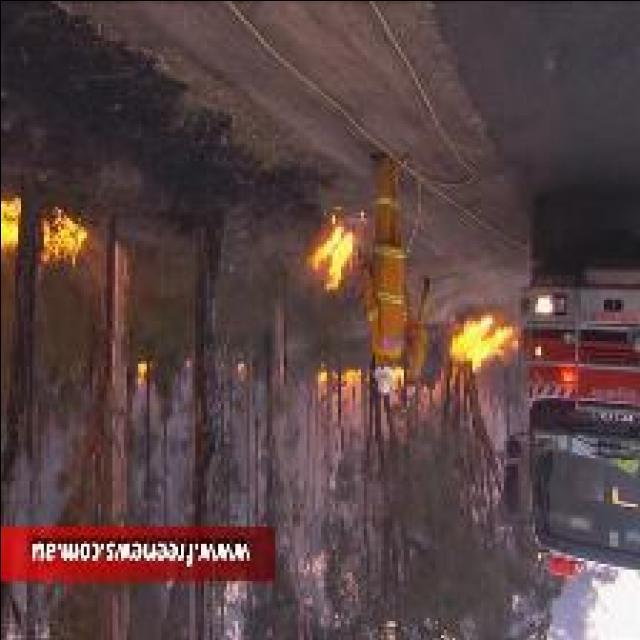Fire: (446, 316, 518, 370), (309, 222, 357, 288), (43, 198, 86, 266), (0, 192, 20, 252), (316, 370, 362, 396), (132, 359, 144, 387)
